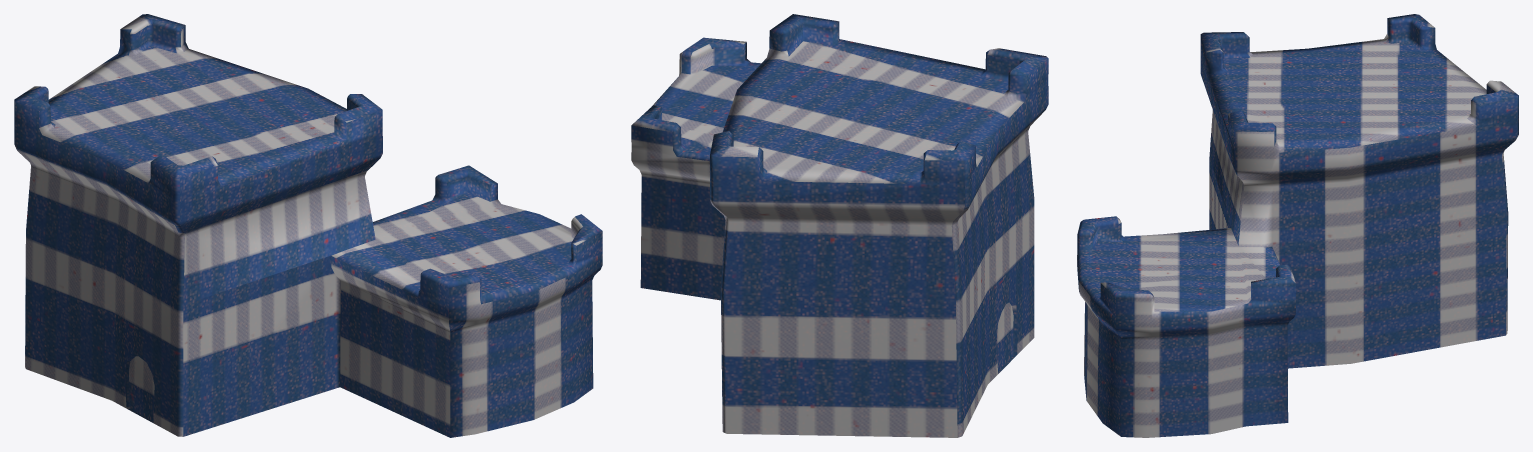
The model's file is housedouble 1.fbx.
3 renders of one model, left to right at view 1: azimuth 30°, elevation 25°; view 2: azimuth 150°, elevation 25°; view 3: azimuth 270°, elevation 25°, orthographic. The views are drawn at different scales.
Parts seen in each view (by area): view 1: town:town:pCube157; view 2: town:town:pCube157; view 3: town:town:pCube157.
Boxes of the visible parts, x1,y1,x2,y2 form: town:town:pCube157: (14, 14, 602, 437); town:town:pCube157: (631, 14, 1048, 437); town:town:pCube157: (1077, 14, 1518, 437).
Bounding box in the file's own units: 0.2001 × 0.1227 × 0.2013.
